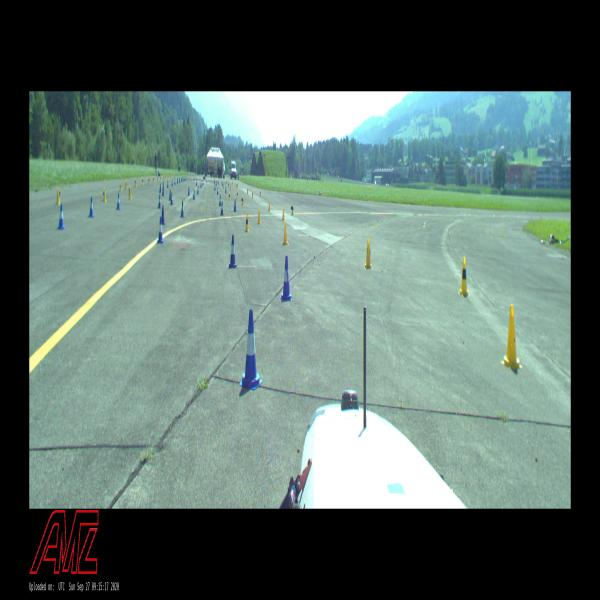blue_cone: (240, 309, 262, 390), (281, 256, 292, 301), (229, 235, 237, 268), (157, 217, 164, 243), (58, 204, 65, 229), (89, 197, 94, 217), (116, 193, 121, 210), (180, 201, 184, 217), (162, 205, 165, 225), (220, 202, 224, 215), (158, 194, 161, 208), (170, 192, 173, 205), (193, 189, 195, 200), (219, 195, 221, 206), (234, 200, 236, 211), (188, 186, 190, 196), (169, 190, 171, 200), (159, 184, 161, 193), (162, 188, 164, 196), (167, 180, 169, 188), (197, 186, 199, 194), (200, 180, 202, 188), (225, 186, 227, 193), (174, 178, 176, 185), (202, 179, 204, 186), (214, 184, 216, 190), (217, 188, 218, 195), (163, 182, 164, 189), (172, 179, 173, 186), (196, 179, 197, 186), (177, 178, 178, 184), (181, 177, 182, 182), (179, 178, 180, 182)
yellow_cone: (501, 304, 522, 368), (458, 257, 470, 295), (364, 238, 373, 269), (282, 221, 289, 246), (245, 213, 249, 232), (56, 188, 60, 205), (257, 209, 261, 224), (102, 188, 106, 202), (129, 187, 132, 200), (119, 181, 122, 193), (291, 204, 294, 215), (282, 208, 285, 219), (242, 195, 244, 206), (268, 200, 270, 211), (236, 190, 238, 200), (125, 179, 127, 189), (134, 179, 136, 188), (142, 177, 144, 186), (228, 192, 230, 201), (252, 191, 254, 199), (148, 178, 150, 185), (260, 190, 261, 197), (153, 176, 154, 183), (247, 188, 248, 194)
